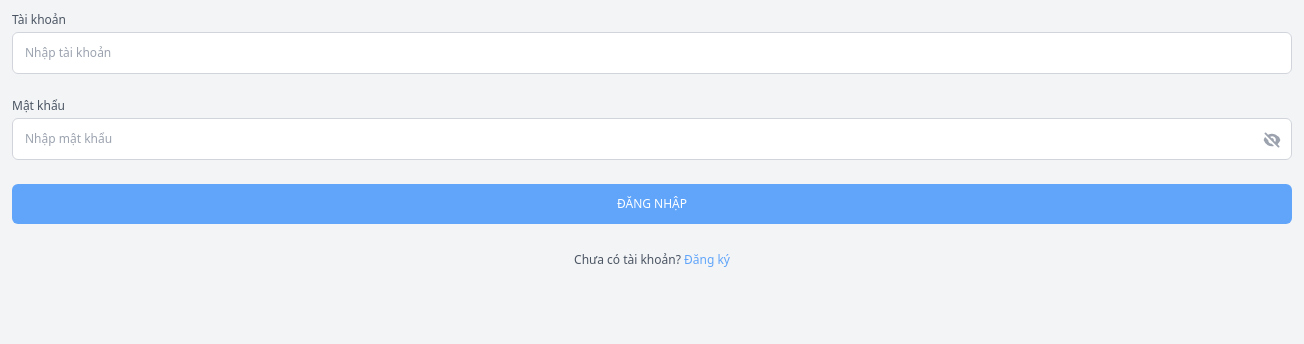
Test Component <FormSignIn /> › Render Component <FormSignIn /> with wrong account
Type "emilys" into the field with test id "form-signin-username".
click(652, 53); type("emilys")  # box [12, 32, 1292, 74]
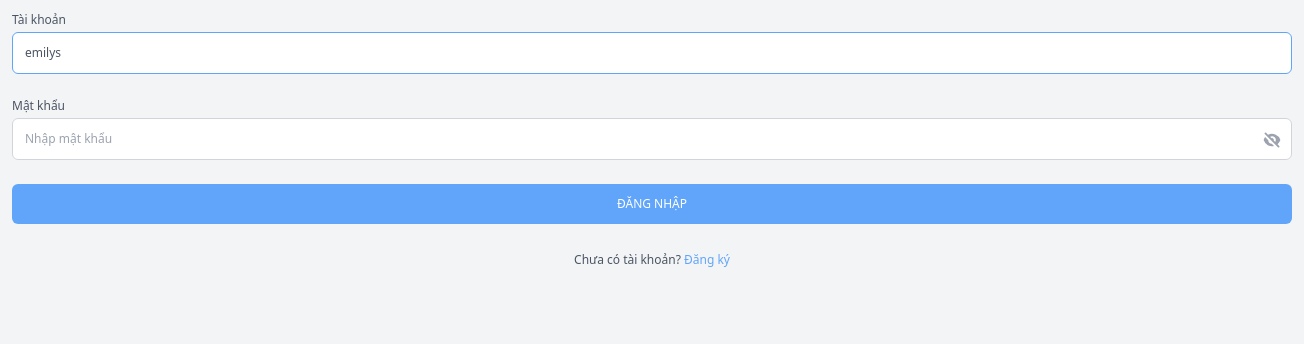
Type "emilyspass" into the password field with test id "form-signin-password".
click(652, 139); type("emilyspass")  # box [12, 118, 1292, 160]
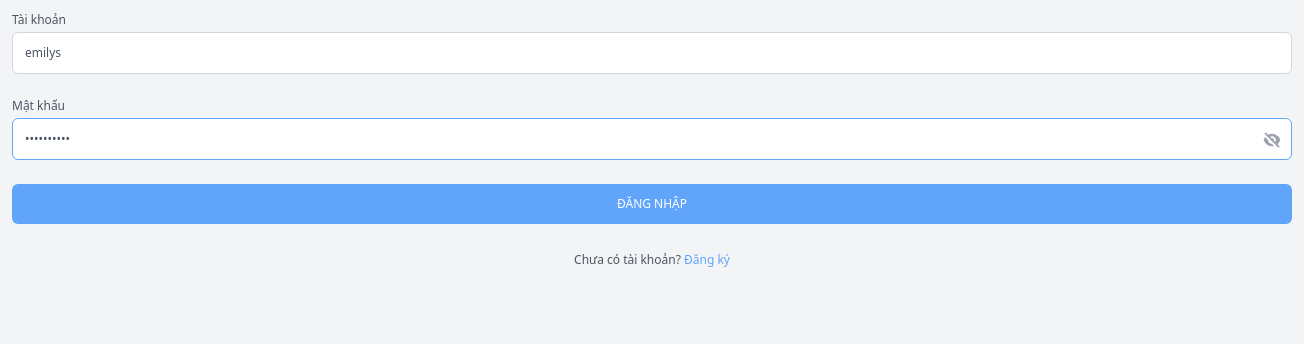
Click the button with test id "form-signin-button".
click(652, 204)  # box [12, 184, 1292, 224]
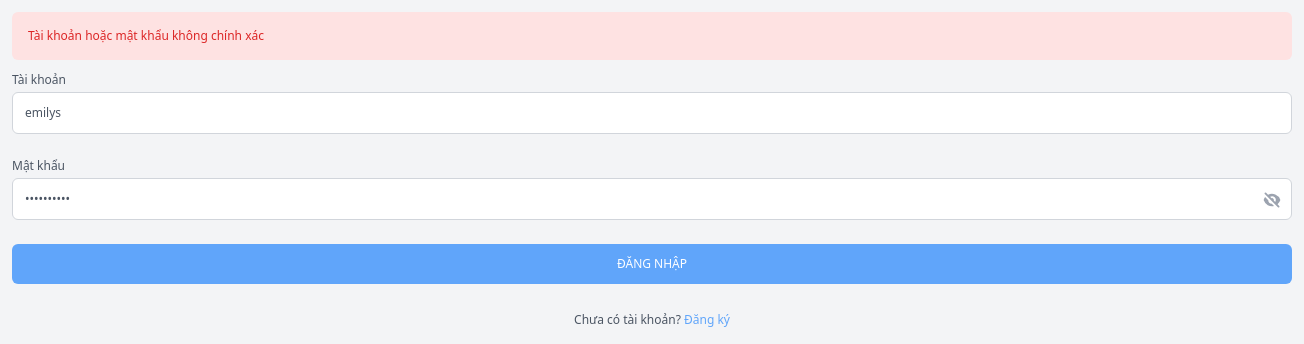
Expected: the text "Tài khoản hoặc mật khẩu không chính xác" is shown, [12, 12, 1292, 60]
Expected: the text with test id "form-signin-error" reads "Tài khoản hoặc mật khẩu không chính xác", [28, 27, 264, 44]
